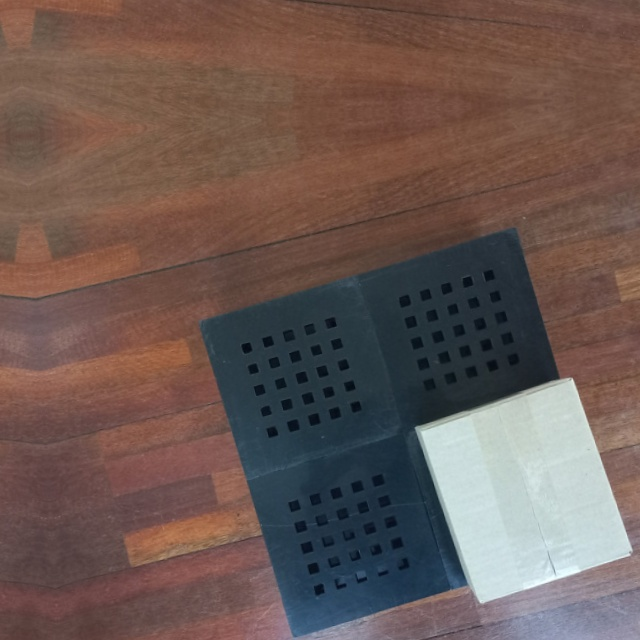box: (412, 373, 633, 606)
pallet: (197, 219, 634, 640)
